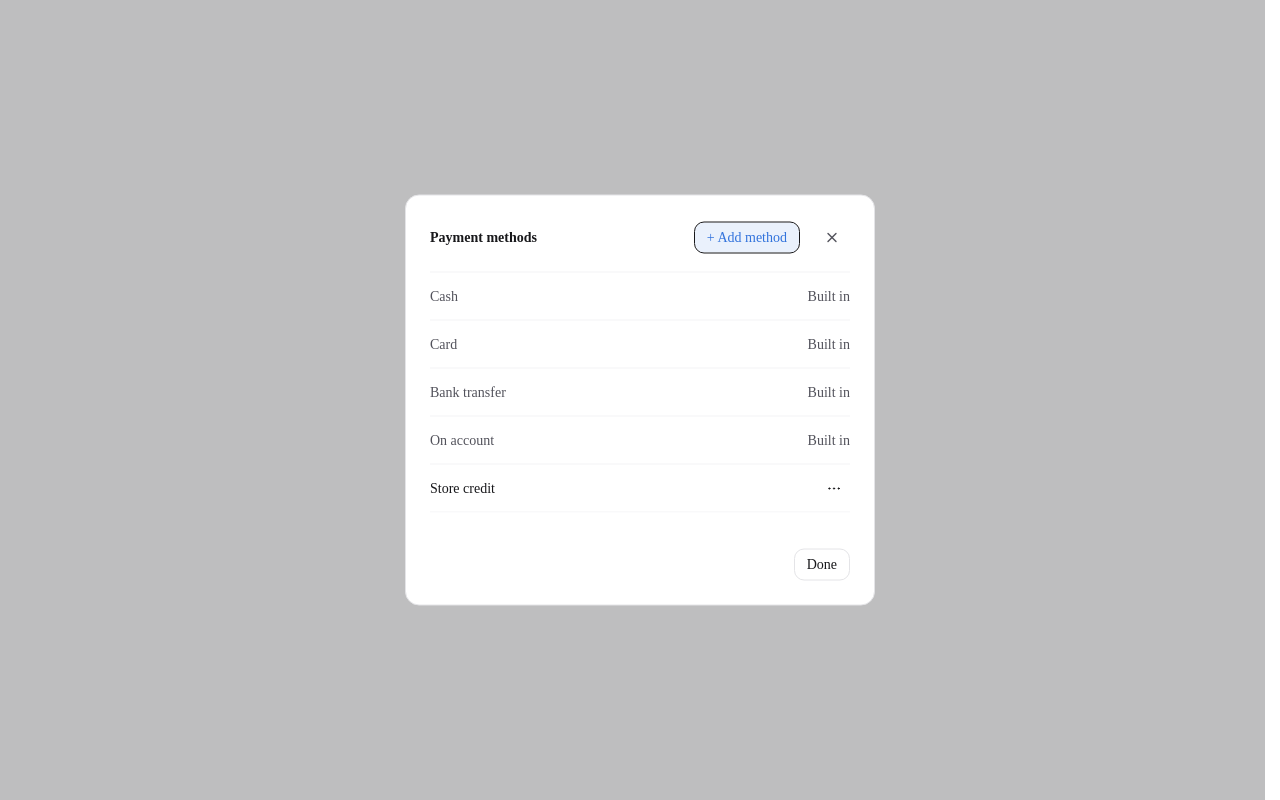
Test: the payment methods dialog › shows what the server refused
Expected: the text "Store credit" is shown, 430,480 -> 495,495
Step 1. Click the button "+ Add method" → [747, 238], box 694,222 -> 800,254
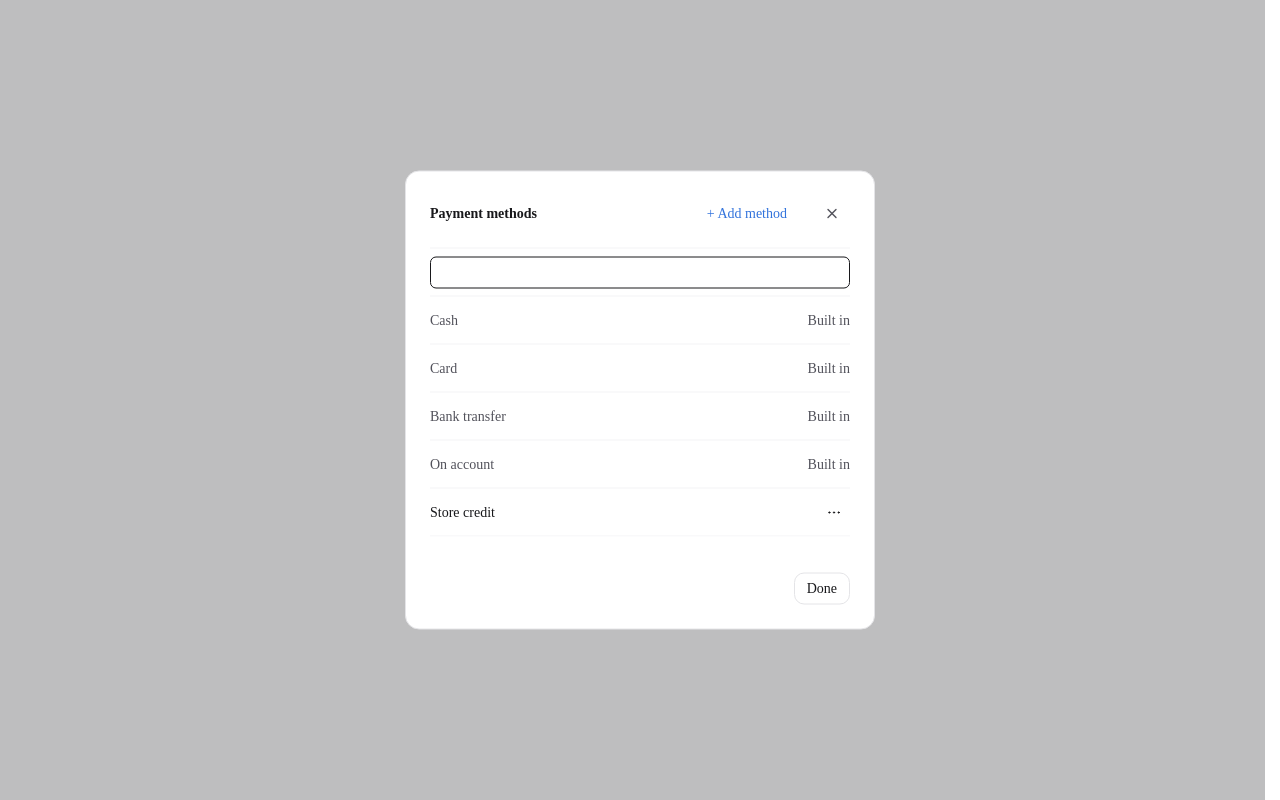
Step 2. Type "store credit" into the field named "New payment method name" → [640, 272], box 430,256 -> 850,288
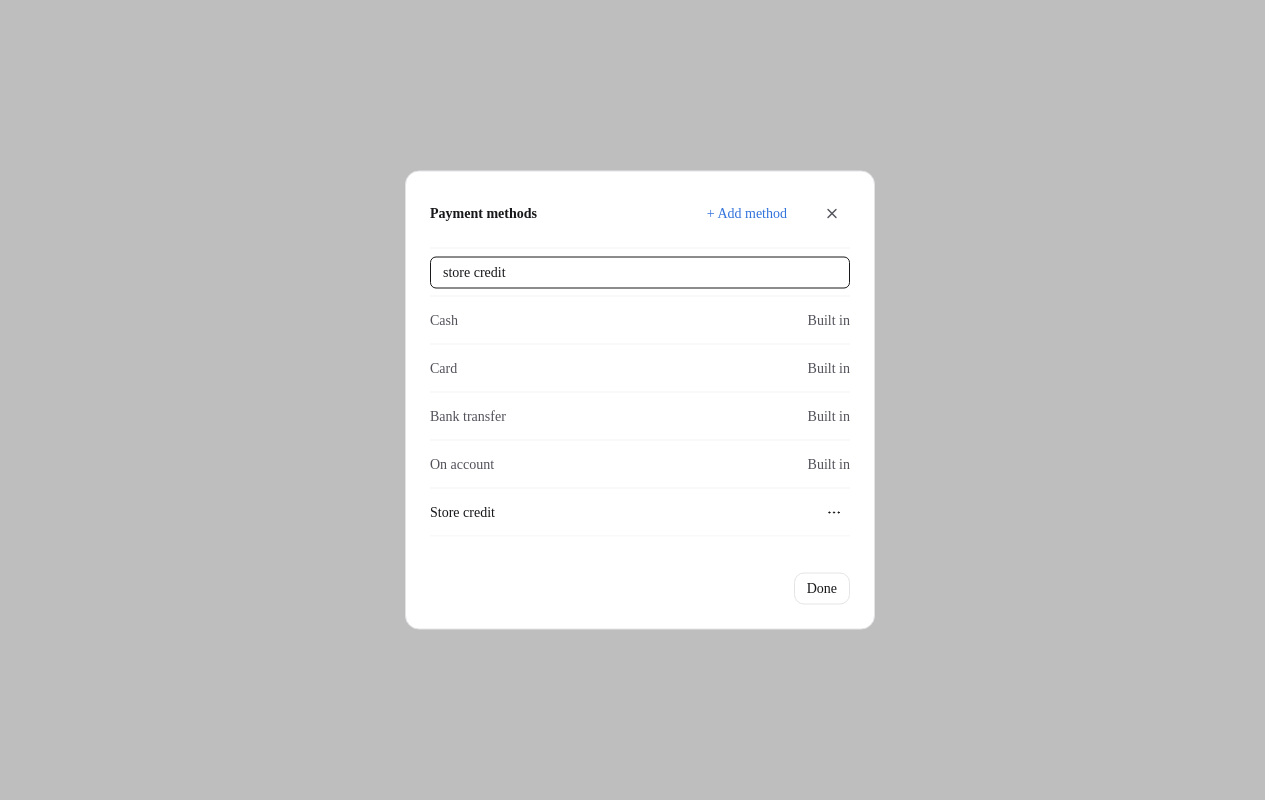
Step 3. Press Enter in the field named "New payment method name", box 430,256 -> 850,288
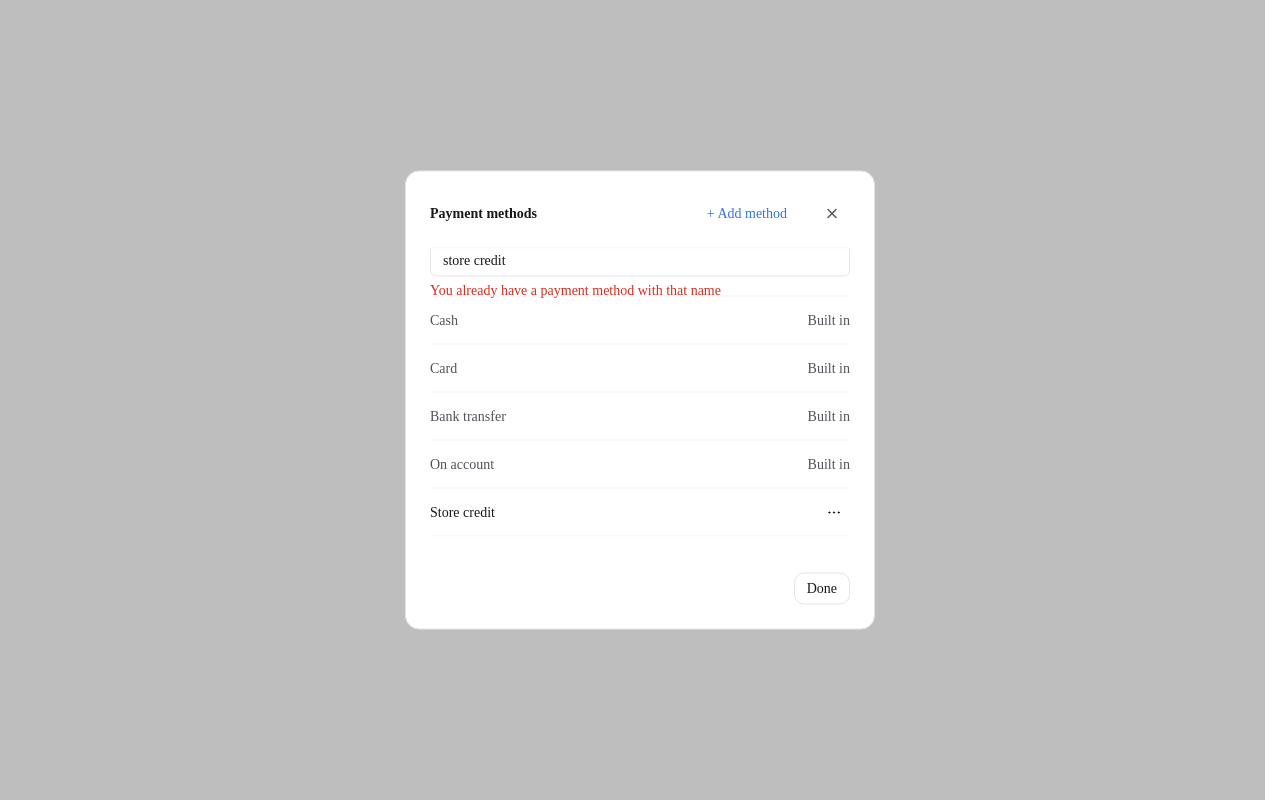
Now the message reads "You already have a payment method with that name", box 430,282 -> 721,297
